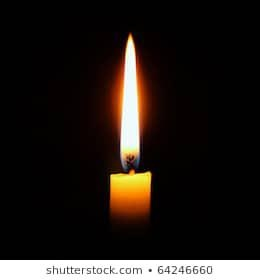fire: (115, 29, 142, 169)
